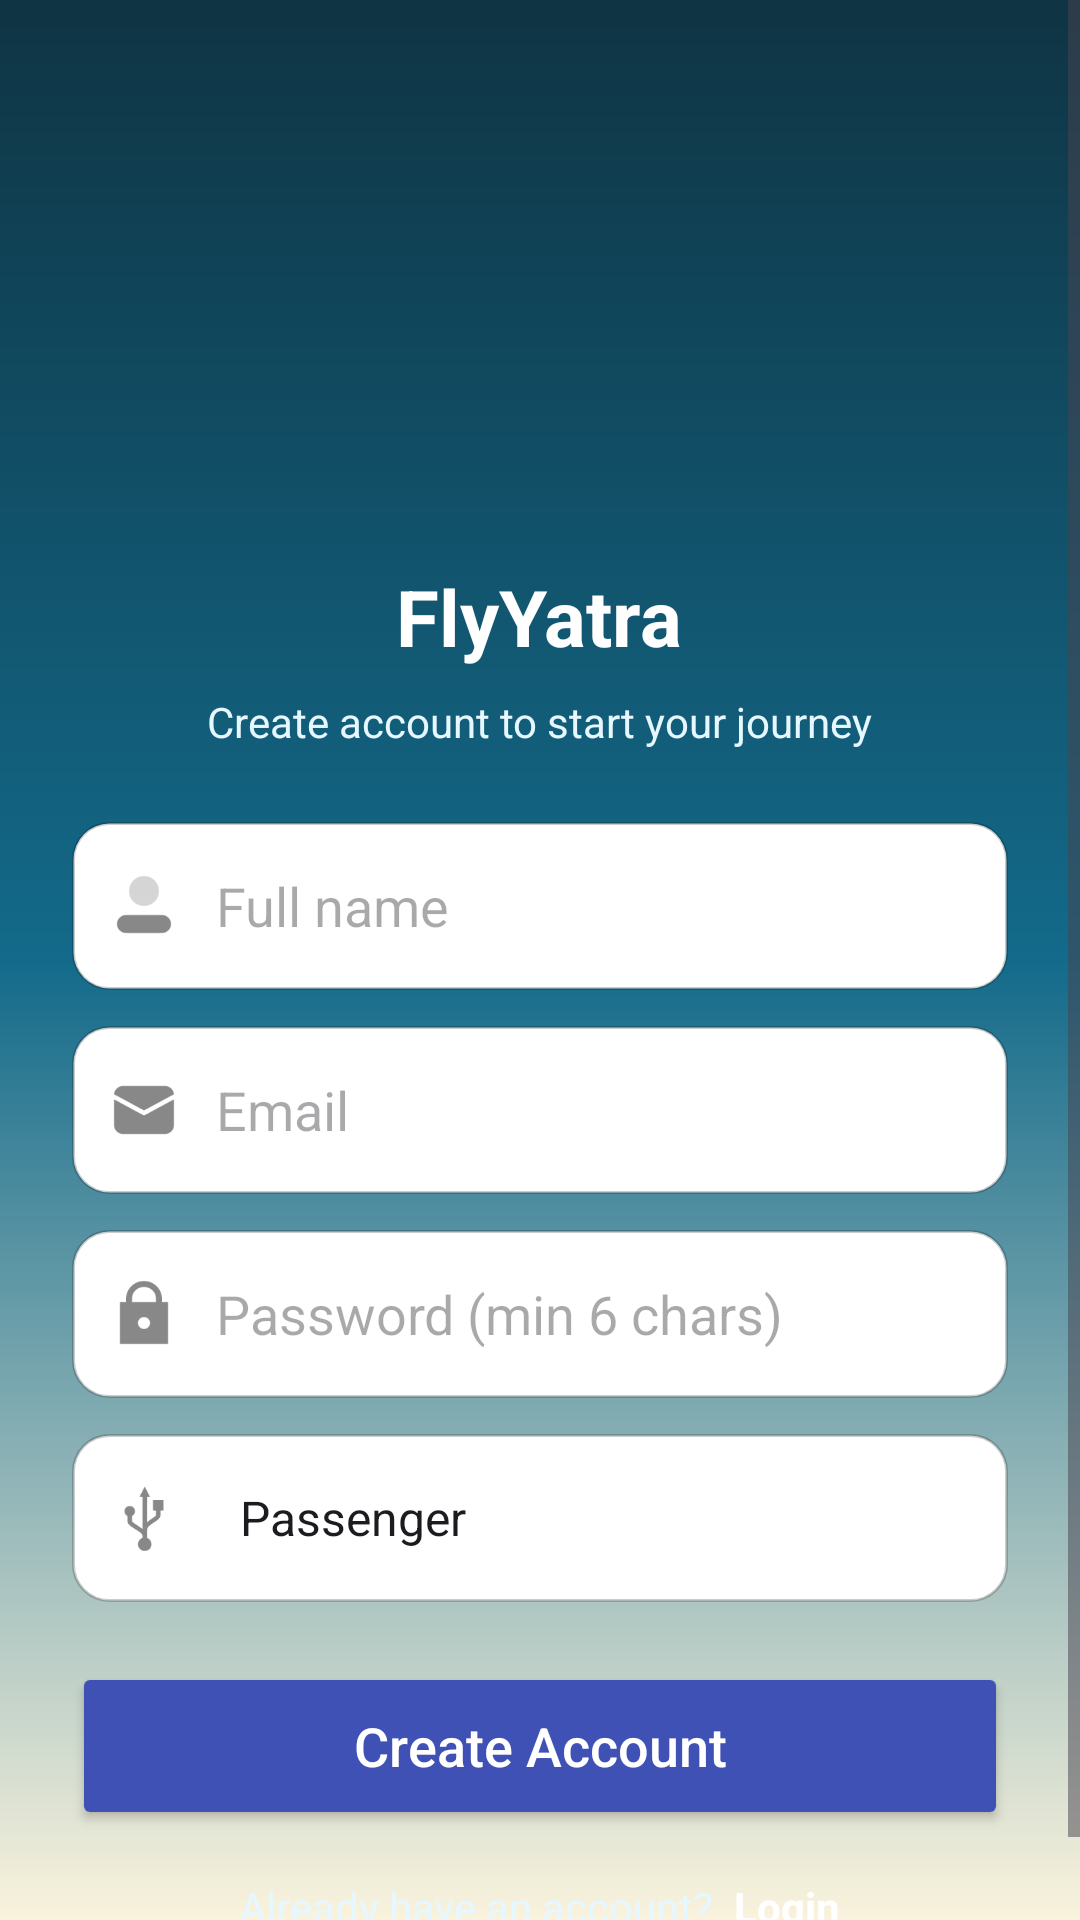

Locate icon controls on the screen. Image size 1080x1920, boxes as (x1, y1, x2, y2).
lock: (120, 1281, 168, 1344)
user: (117, 876, 171, 933)
